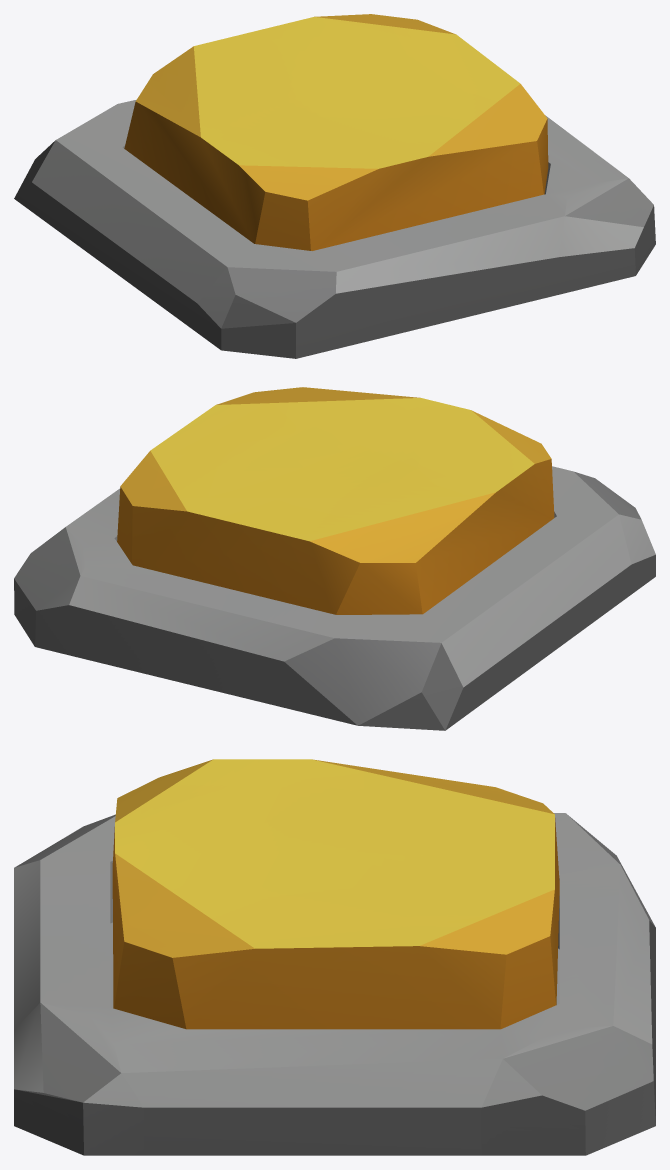
Rendered from rock_cube.fbx.
The picture shows the model from 3 angles, top to bottom: view 1: azimuth 30°, elevation 25°; view 2: azimuth 150°, elevation 25°; view 3: azimuth 270°, elevation 25°; orthographic projection. The views are drawn at different scales.
Visible parts, largest first — view 1: cube, cube1; view 2: cube, cube1; view 3: cube1, cube.
Part boxes in pixels (left/top/right/bottom): cube: left=124, top=14, right=548, bottom=250; cube1: left=14, top=99, right=655, bottom=358; cube: left=117, top=387, right=554, bottom=614; cube1: left=14, top=466, right=655, bottom=730; cube1: left=14, top=813, right=655, bottom=1155; cube: left=112, top=759, right=559, bottom=1029.
Bounding box in the file's own units: 19.51 × 5.62 × 19.46.
